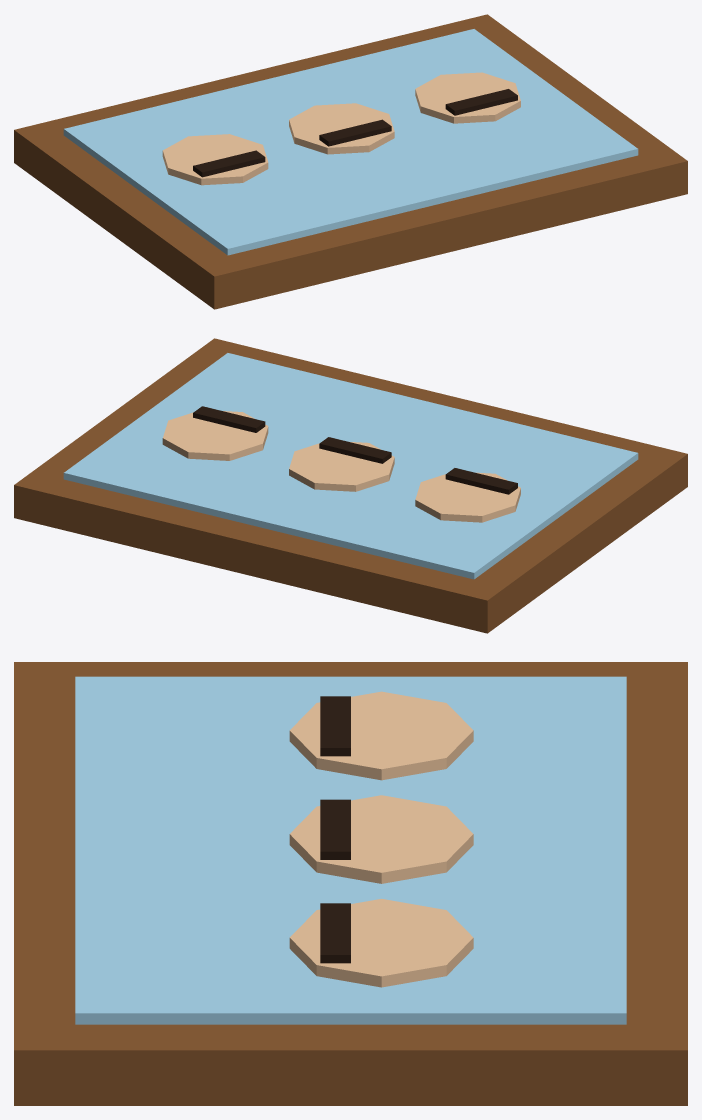
Rendered from super_winners_photo.glb.
3 views of the same model, one above another, from view 1: azimuth 30°, elevation 25°; view 2: azimuth 150°, elevation 25°; view 3: azimuth 270°, elevation 25° (orthographic). The views are drawn at different scales.
Parts seen in each view (by area): view 1: photo_photo_sky, frame_photo_frame, faces_photo_face (×3), mustaches_photo_mustache (×3); view 2: photo_photo_sky, frame_photo_frame, faces_photo_face (×3), mustaches_photo_mustache (×3); view 3: photo_photo_sky, frame_photo_frame, faces_photo_face (×3), mustaches_photo_mustache (×3).
Part boxes in pixels (x1,y1,x2,y2): photo_photo_sky: (63,29,638,255); frame_photo_frame: (14,14,687,309); faces_photo_face (×3): (162,72,520,185); mustaches_photo_mustache (×3): (193,89,517,177); photo_photo_sky: (63,353,638,579); frame_photo_frame: (14,338,687,633); faces_photo_face (×3): (162,411,520,522); mustaches_photo_mustache (×3): (193,406,517,494); photo_photo_sky: (75,676,626,1024); frame_photo_frame: (14,662,687,1105); faces_photo_face (×3): (289,691,473,987); mustaches_photo_mustache (×3): (320,696,350,963).
Size of the model in its own units: 0.3 by 0.031 by 0.22.
